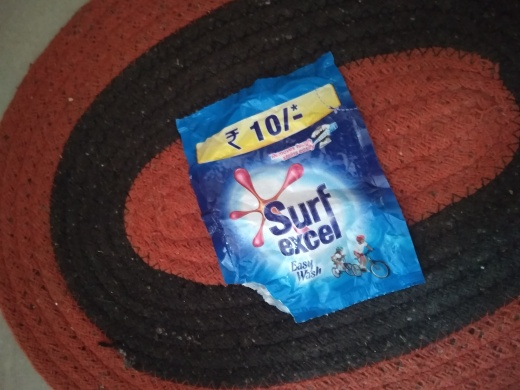surf: (148, 63, 435, 331)
